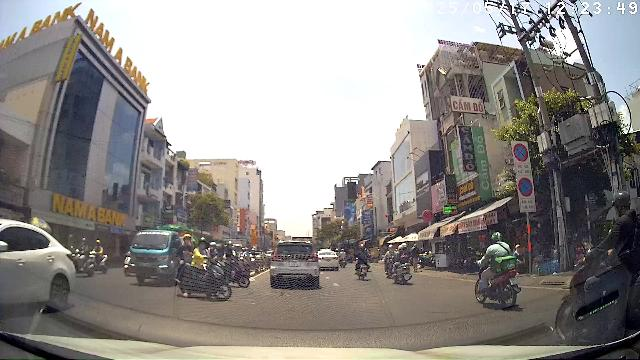130-cam-dung-va-do-xe: (514, 142, 528, 162)
131a-cam-do-xe: (518, 177, 532, 197)
